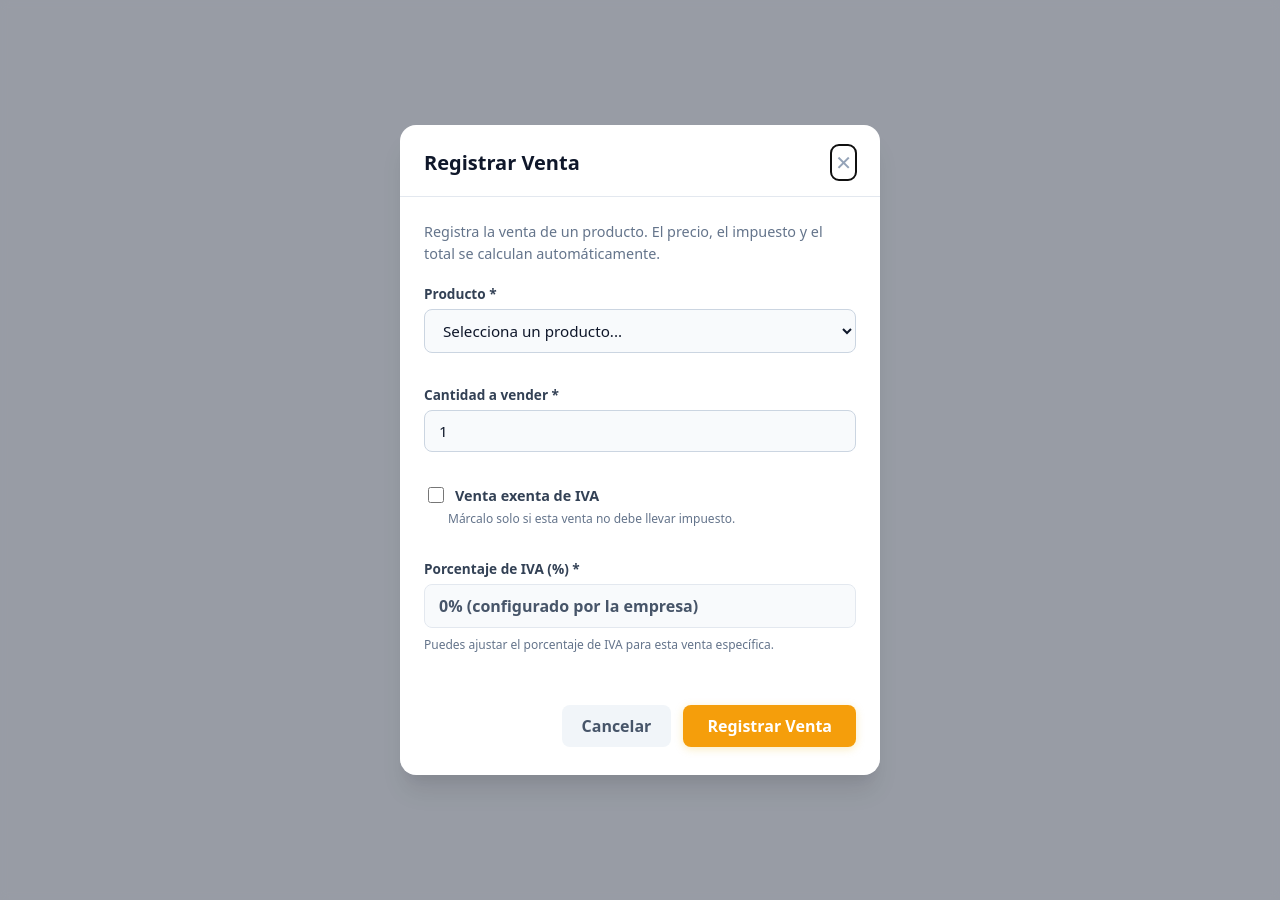
Test: SaleModal — desglose de impuestos › usa temporalmente IVA del 12% en la vista previa cuando la configuración devuelve 0
This screenshot has width=1280, height=900.
Select "Producto A (Stock: 10)" in the dropdown. click: {"x": 640, "y": 331}
box: 424,309 -> 856,353
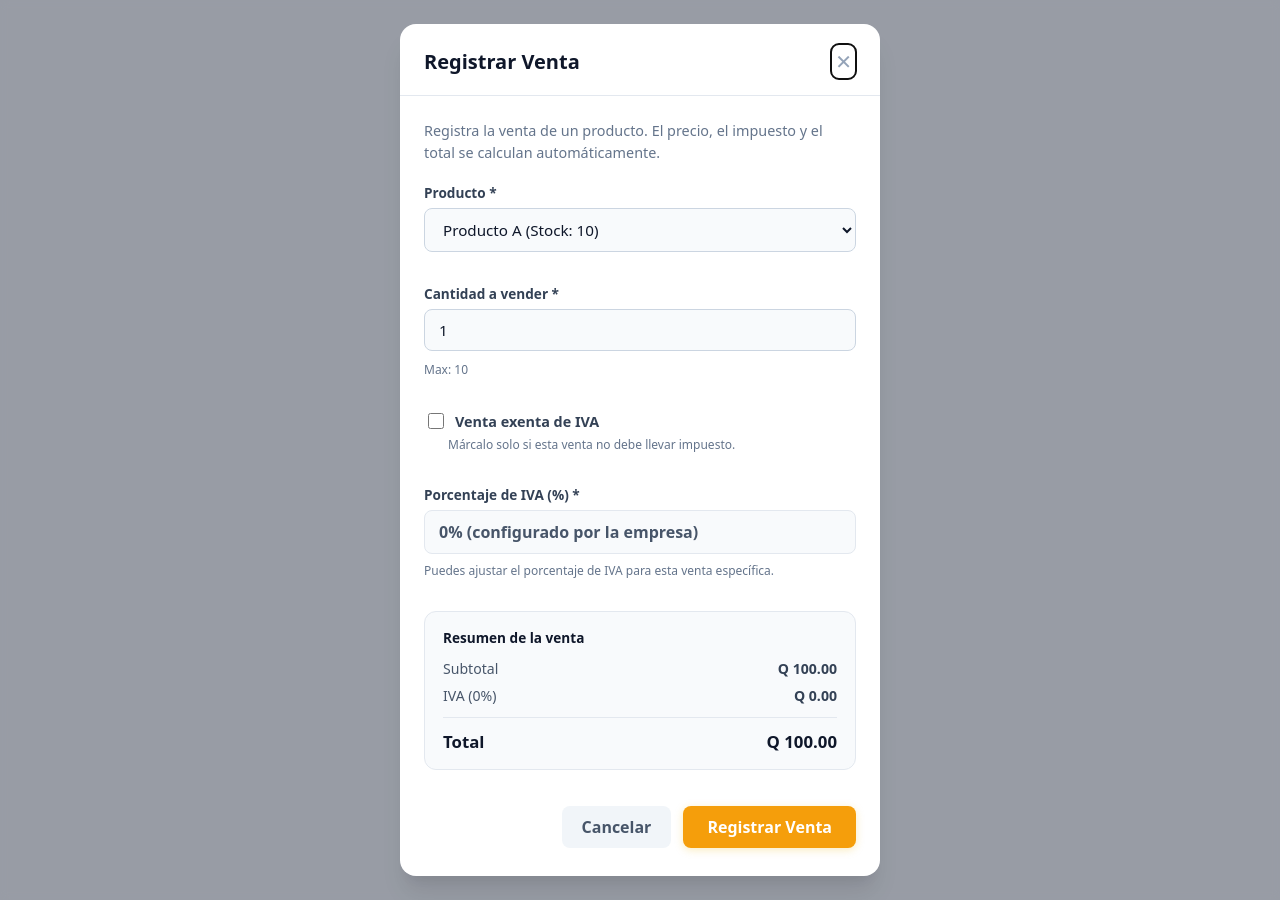
Expected: the text "IVA (0%)" is shown, 443,686 -> 496,705
